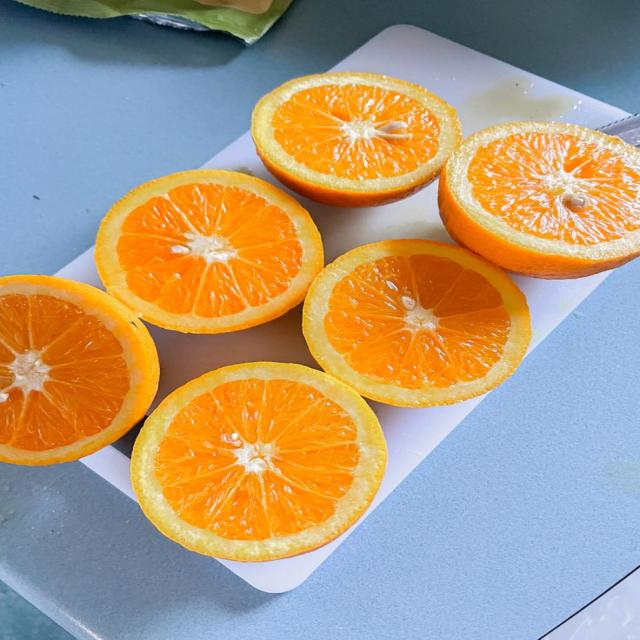orange: (132, 363, 386, 561), (303, 240, 530, 406), (96, 170, 323, 333), (440, 123, 639, 278), (0, 276, 159, 465), (252, 73, 460, 206)
